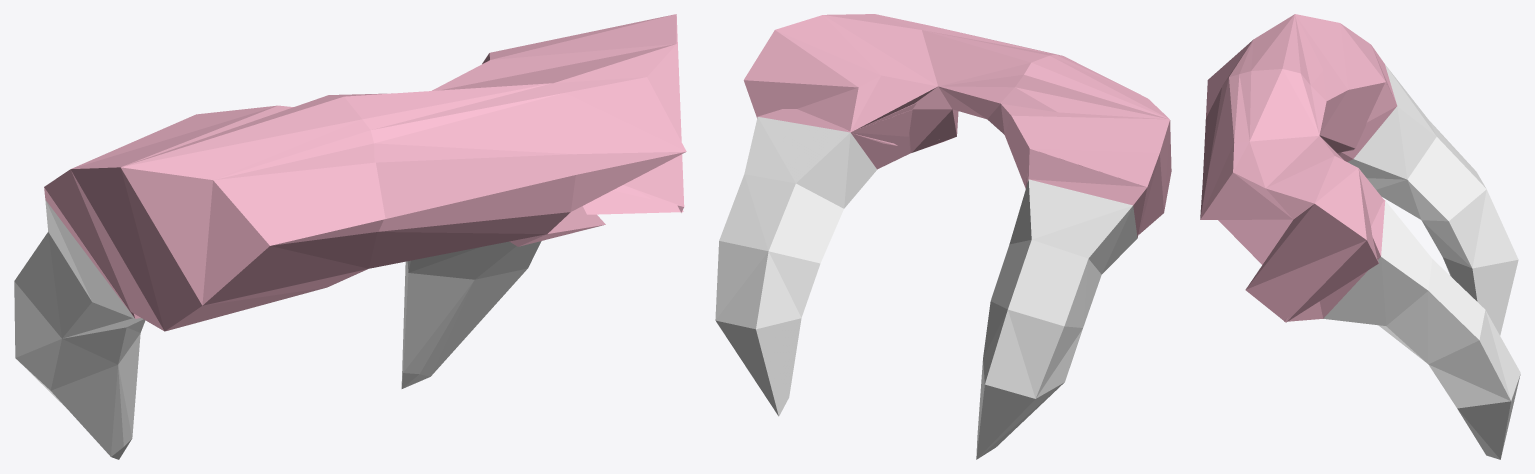
3 renders of one model, left to right at view 1: azimuth 30°, elevation 25°; view 2: azimuth 150°, elevation 25°; view 3: azimuth 270°, elevation 25°, orthographic. The views are drawn at different scales.
Parts seen in each view (by area): view 1: mesh_1697337000, group_272811822, group_1626943420; view 2: mesh_1697337000, group_1626943420, group_272811822; view 3: mesh_1697337000, group_1626943420, group_272811822.
Boxes of the visible parts, left/top/right/bottom form: mesh_1697337000: left=44, top=14, right=686, bottom=331; group_272811822: left=14, top=187, right=145, bottom=459; group_1626943420: left=401, top=190, right=683, bottom=388; mesh_1697337000: left=743, top=14, right=1171, bottom=234; group_1626943420: left=715, top=103, right=939, bottom=416; group_272811822: left=976, top=149, right=1147, bottom=459; mesh_1697337000: left=1200, top=14, right=1385, bottom=322; group_1626943420: left=1284, top=200, right=1520, bottom=459; group_272811822: left=1339, top=45, right=1518, bottom=335.
Size of the model in its own units: 97.85 by 71.8 by 65.54.
